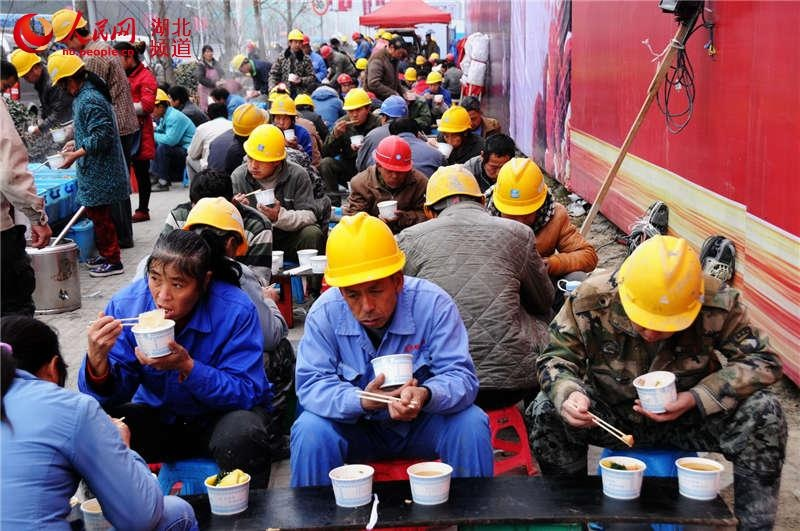blue: (378, 92, 407, 126)
none: (1, 309, 70, 400), (143, 228, 211, 317), (189, 167, 232, 210), (480, 133, 516, 174), (109, 37, 138, 69), (461, 96, 484, 128), (166, 83, 186, 107), (386, 36, 406, 58), (209, 85, 228, 105), (200, 44, 214, 59)
red: (373, 136, 415, 189), (336, 72, 353, 90), (320, 44, 331, 56), (351, 31, 362, 40)
yellow: (614, 233, 708, 345), (321, 215, 410, 328), (492, 155, 549, 230), (185, 195, 249, 259), (423, 162, 484, 222), (242, 124, 288, 183), (45, 48, 89, 95), (51, 7, 90, 49), (436, 103, 470, 146), (11, 45, 43, 84), (341, 88, 373, 123), (269, 96, 296, 130), (147, 88, 168, 118), (291, 91, 314, 113), (286, 27, 302, 52), (231, 55, 250, 75), (427, 72, 443, 92), (402, 66, 418, 86)
